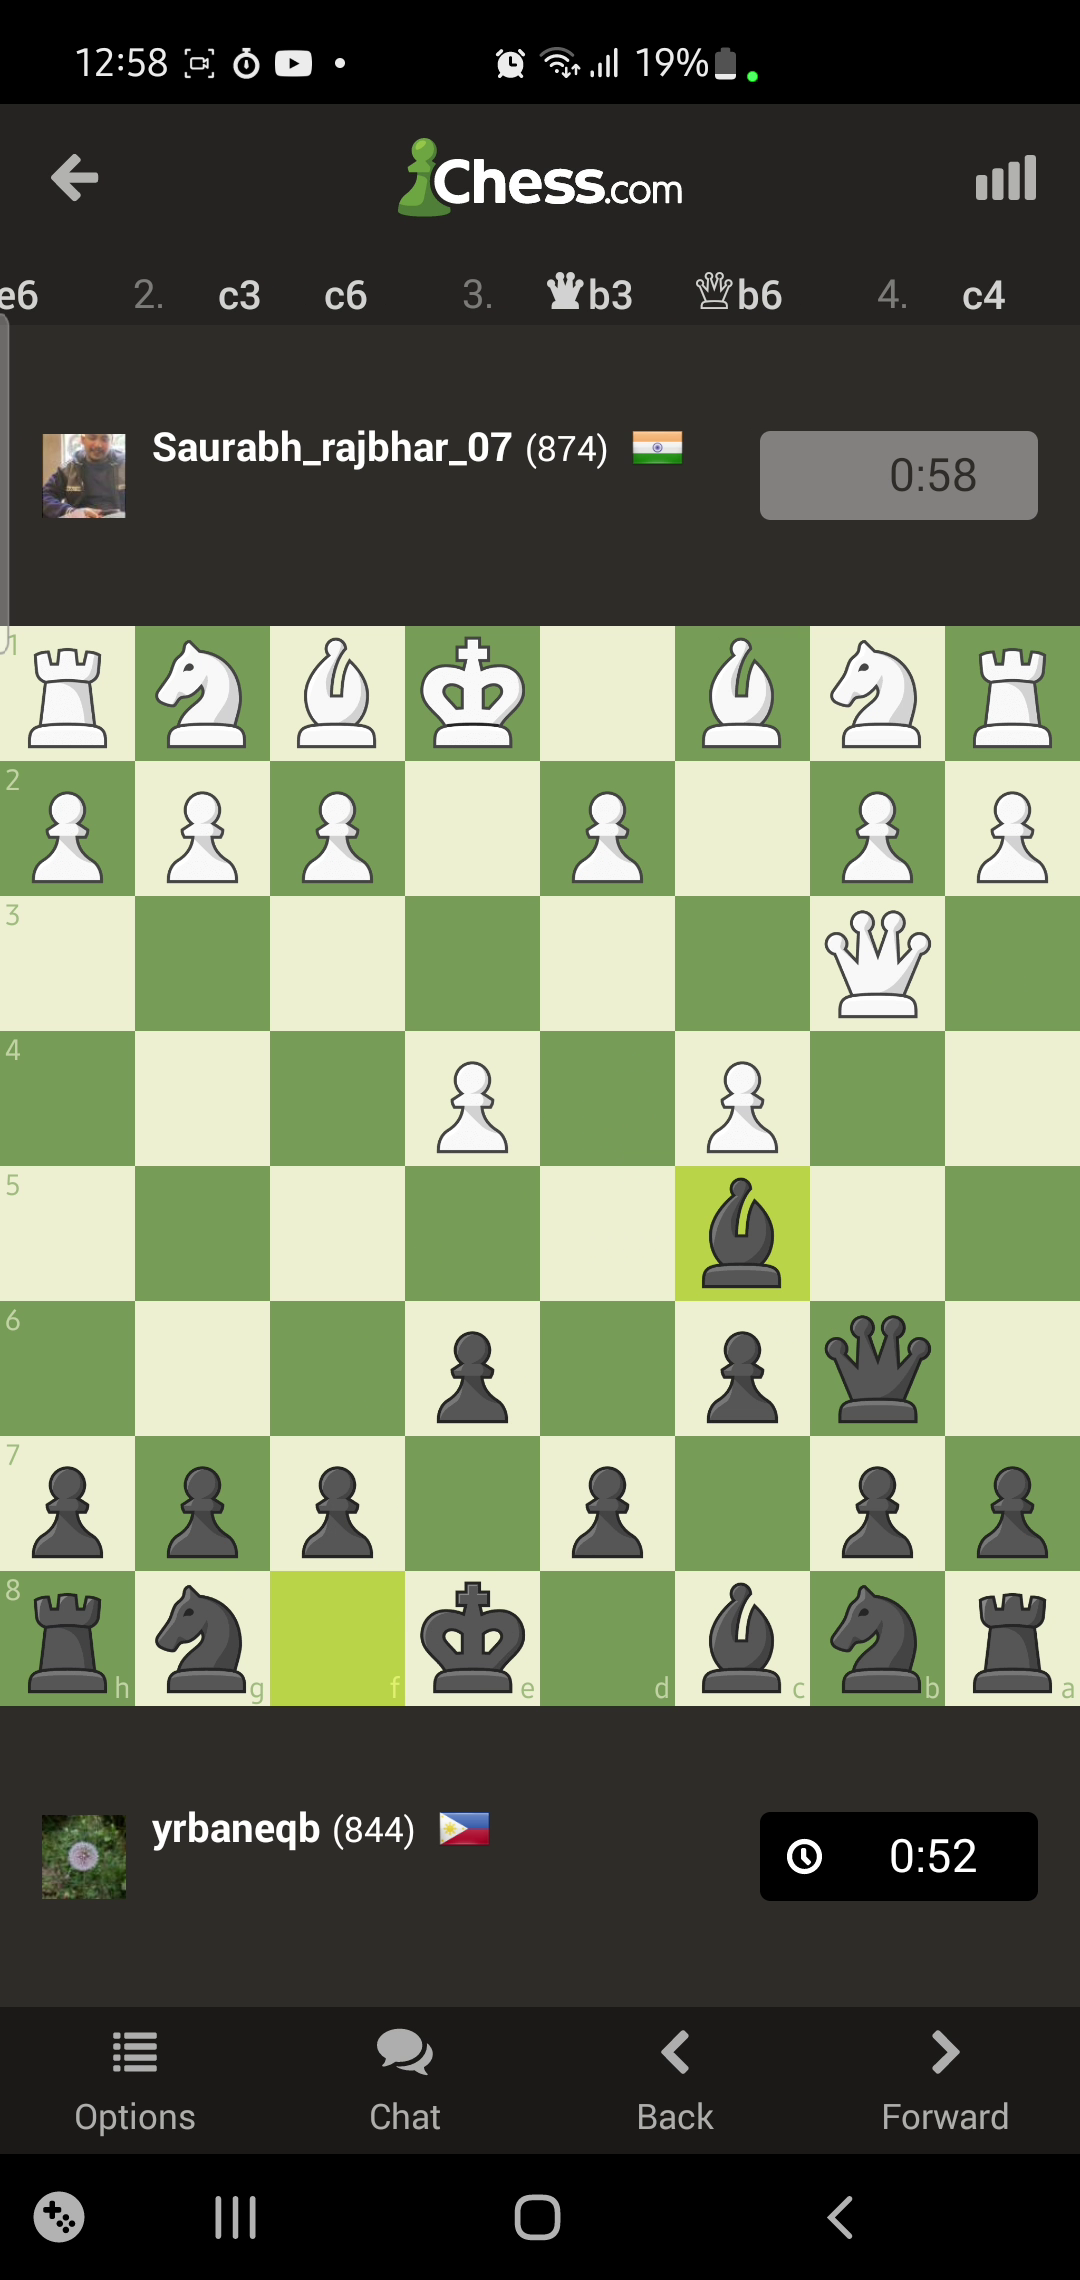king: (417, 641, 523, 750), (422, 1583, 523, 1690)
